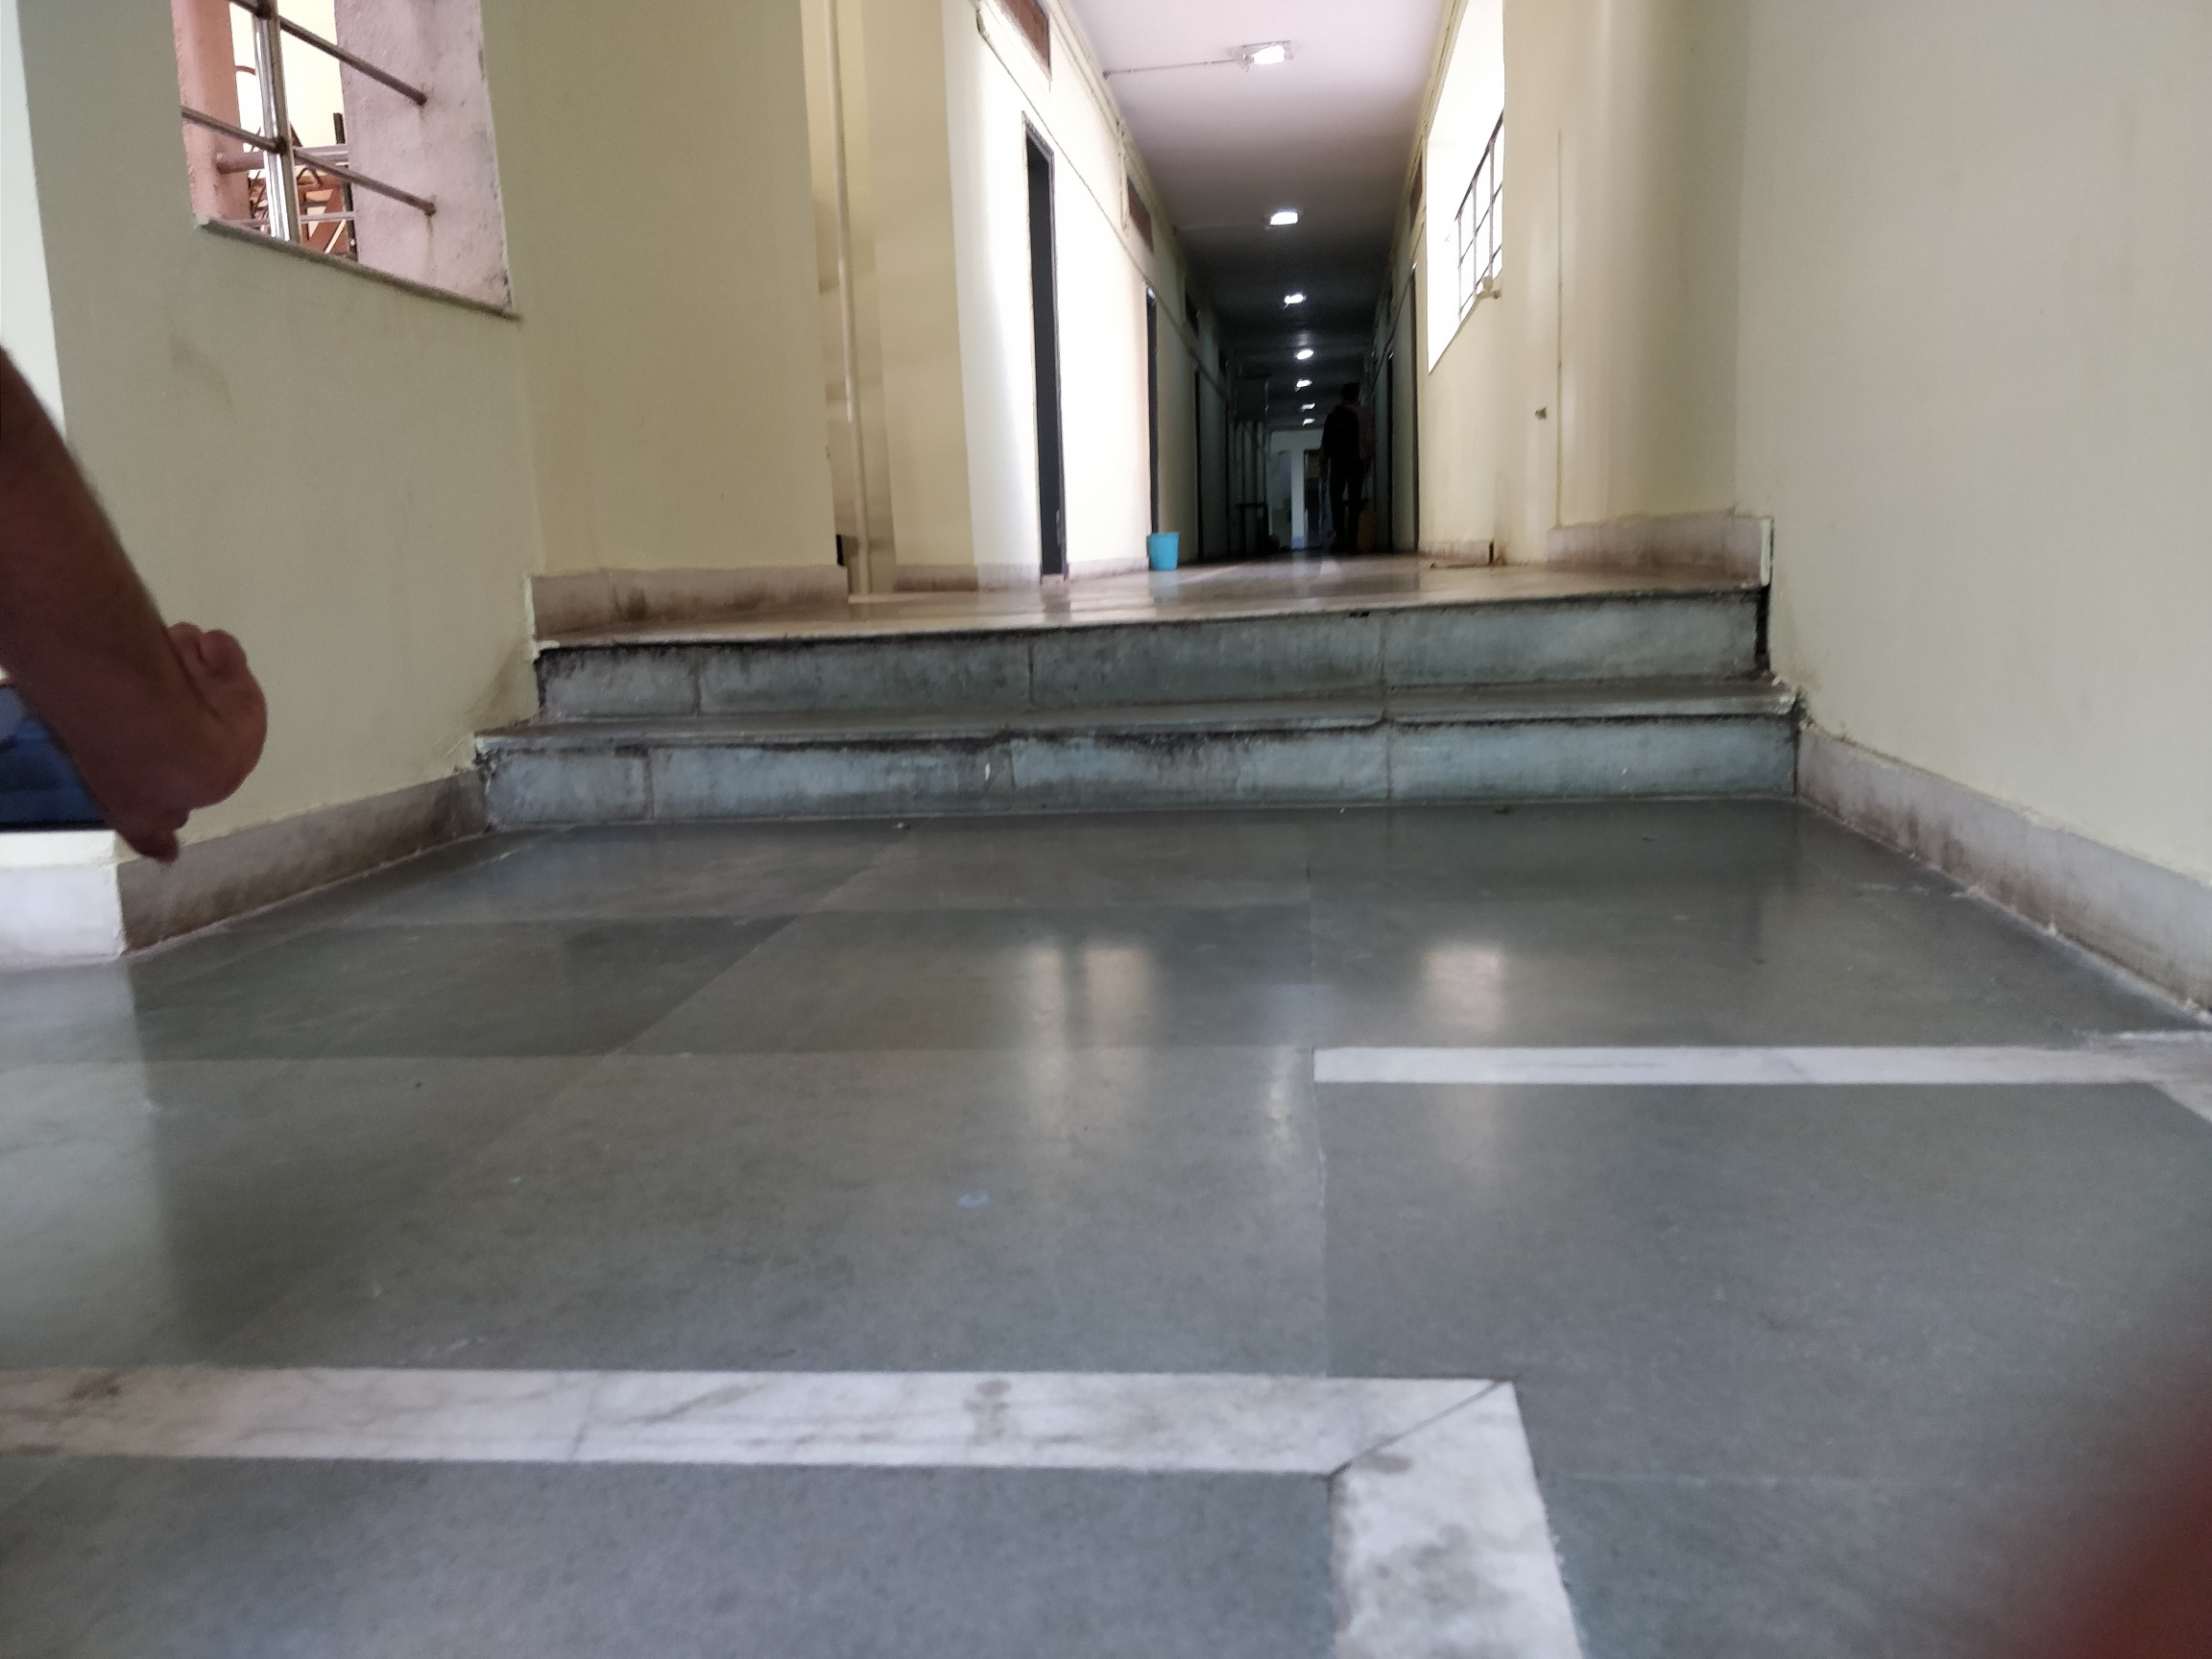stairs_up: (446, 599, 1857, 824)
